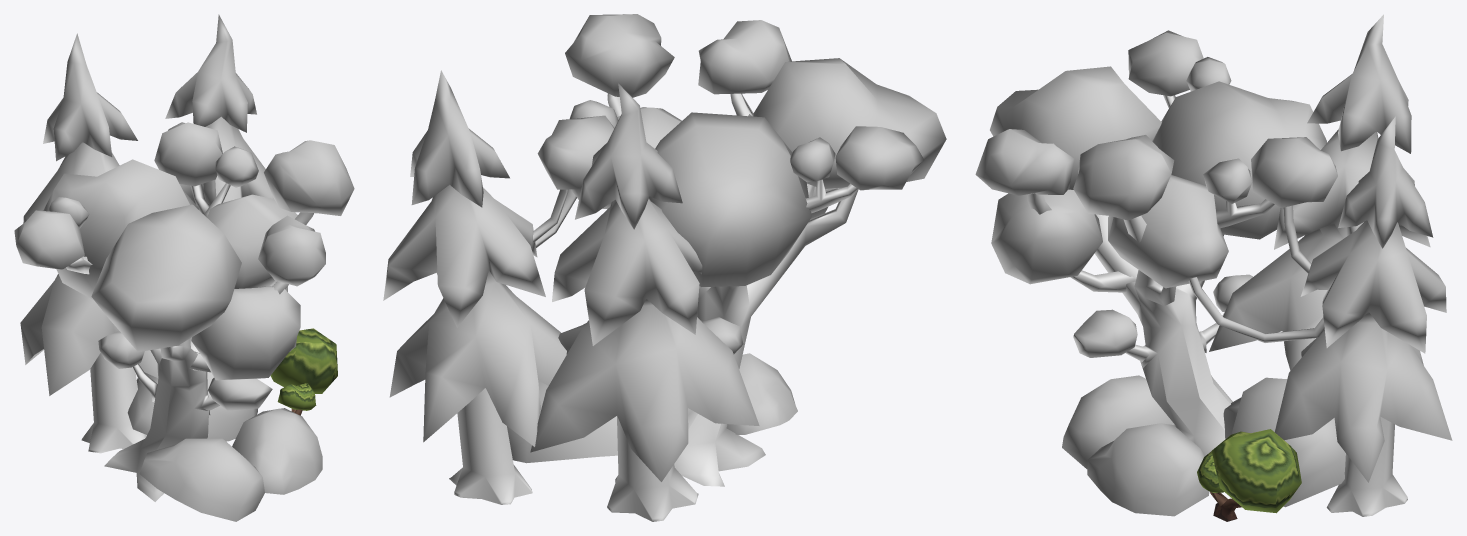
Rendered from forest_border04.fbx.
3 views of the same model, side by side, from view 1: azimuth 30°, elevation 25°; view 2: azimuth 150°, elevation 25°; view 3: azimuth 270°, elevation 25° (orthographic). The views are drawn at different scales.
Visible parts, largest first — view 1: polySurface30; view 2: polySurface30; view 3: polySurface30.
Part boxes in pixels (x1,y1,x2,y2): polySurface30: [14, 14, 354, 521]; polySurface30: [383, 14, 946, 521]; polySurface30: [975, 14, 1452, 521].
Bounding box in the file's own units: 560 × 578 × 579.
